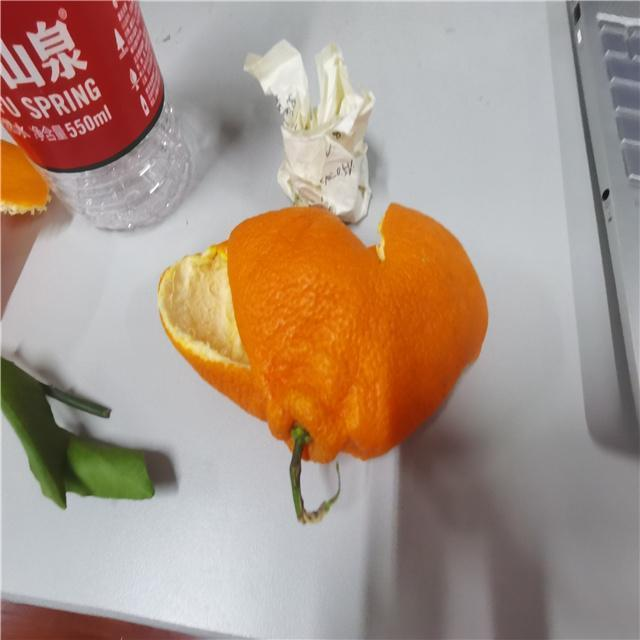orange peel: (154, 197, 492, 463)
